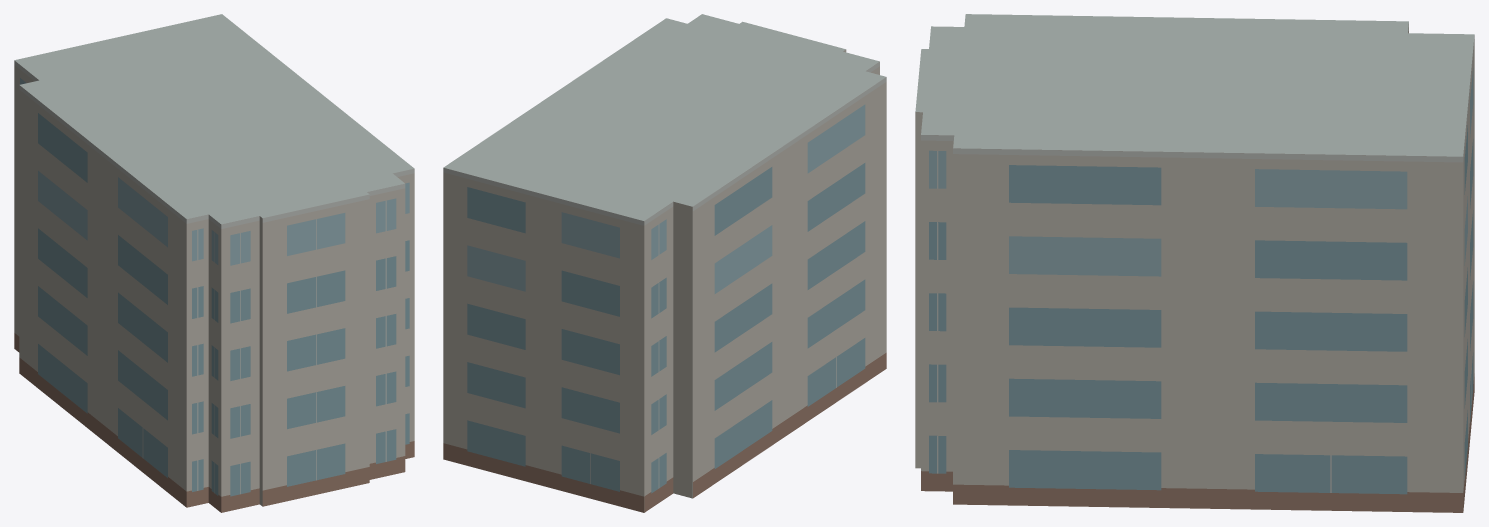
Rendered from survey-upis-32662660.glb.
3 views of the same model, side by side, from view 1: azimuth 30°, elevation 25°; view 2: azimuth 150°, elevation 25°; view 3: azimuth 270°, elevation 25° (orthographic). The views are drawn at different scales.
Visible parts, largest first — view 1: survey-upis-32662660.tmp; view 2: survey-upis-32662660.tmp; view 3: survey-upis-32662660.tmp.
Boxes of the visible parts, x1=… form: survey-upis-32662660.tmp: x1=14, y1=14, x2=414, y2=512; survey-upis-32662660.tmp: x1=443, y1=14, x2=886, y2=512; survey-upis-32662660.tmp: x1=915, y1=14, x2=1474, y2=512.
Bounding box in the file's own units: 13.03 × 15.15 × 21.57.
